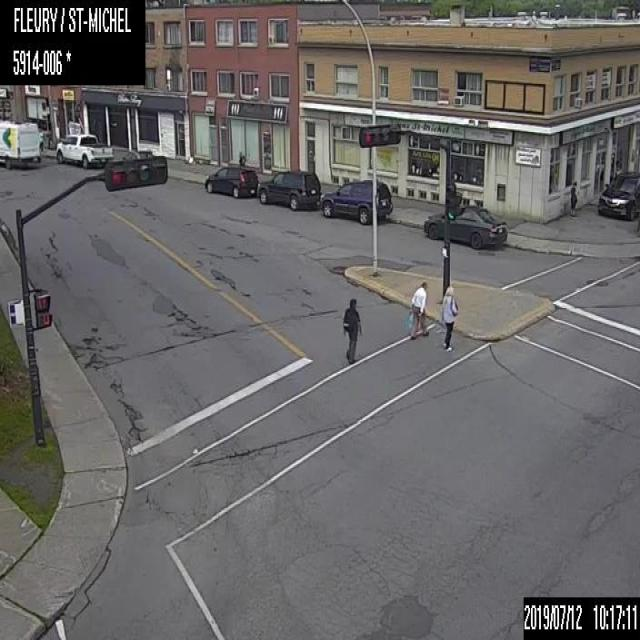pedestrian: (406, 280, 428, 340), (341, 297, 361, 363), (440, 284, 458, 351), (568, 178, 579, 214)
vehicle: (423, 204, 507, 248), (320, 178, 392, 224), (256, 170, 321, 210), (0, 116, 41, 168), (597, 171, 639, 220), (55, 133, 113, 168), (204, 164, 258, 197), (116, 149, 153, 158)
